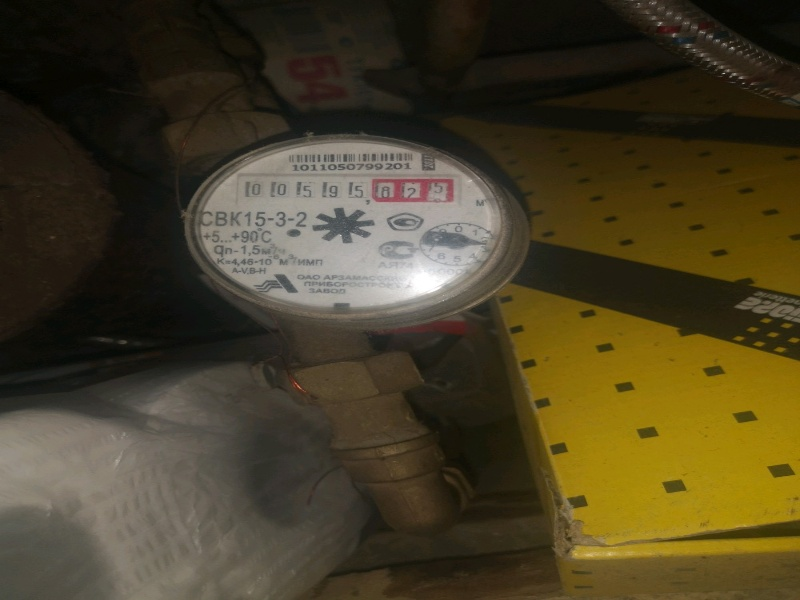meter: (234, 174, 458, 204)
